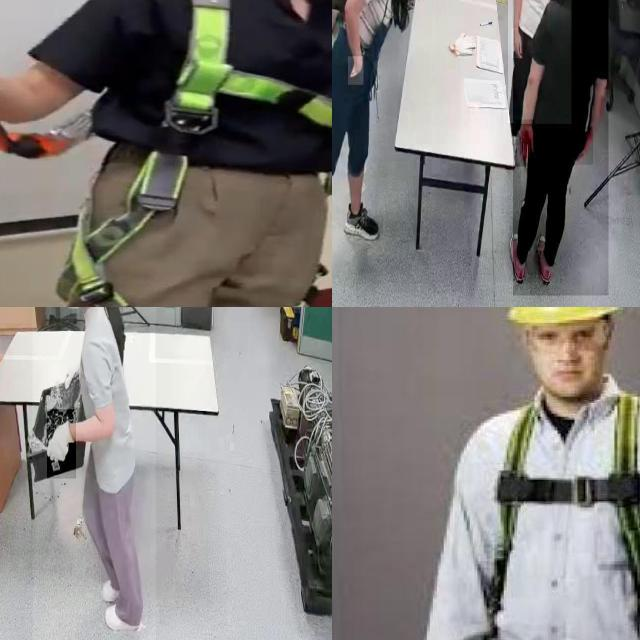Harness: (61, 0, 332, 307), (473, 389, 640, 640)
hand_glove: (47, 410, 77, 480)
hand_noglove: (515, 120, 535, 168), (570, 126, 594, 166), (348, 56, 364, 86), (512, 28, 524, 59)
person: (32, 307, 156, 640), (332, 0, 435, 281), (513, 0, 609, 296), (508, 0, 571, 124)
shoes: (341, 198, 383, 245), (506, 225, 530, 286), (103, 602, 145, 634), (536, 229, 556, 287)
